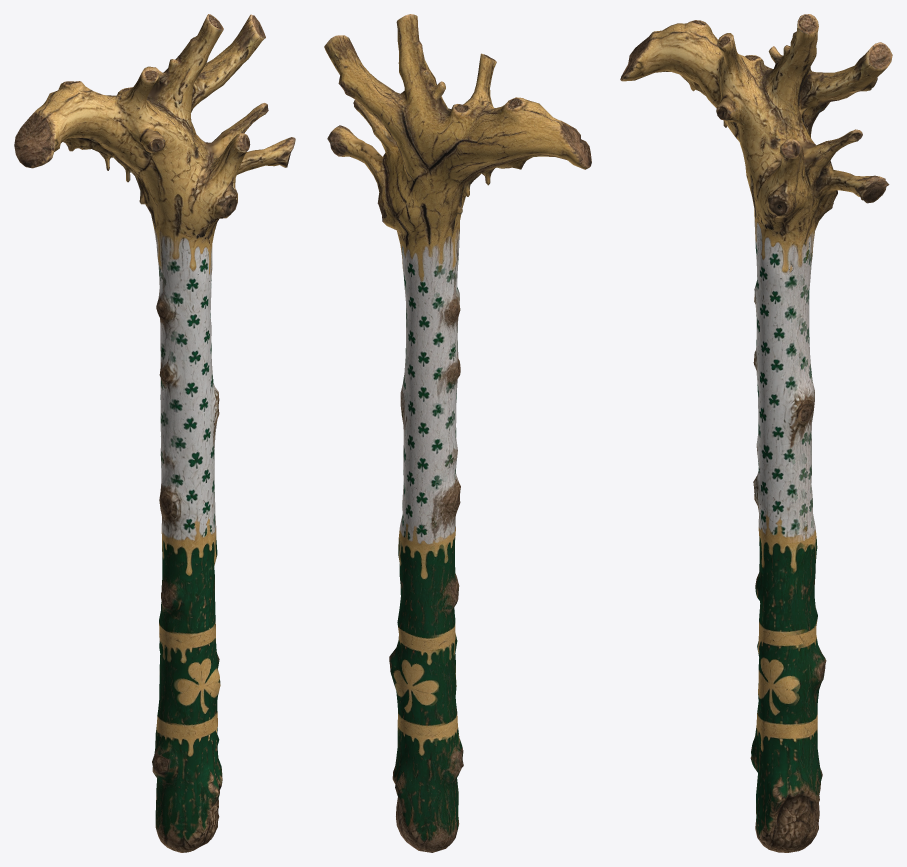
File: painted_shillelagh.fbx
3 views of the same model, side by side, from view 1: azimuth 30°, elevation 25°; view 2: azimuth 150°, elevation 25°; view 3: azimuth 330°, elevation 25° (orthographic).
Visible parts, largest first — view 1: Mesh_0; view 2: Mesh_0; view 3: Mesh_0.
Boxes of the visible parts, x1=… form: Mesh_0: x1=14, y1=14, x2=295, y2=852; Mesh_0: x1=324, y1=14, x2=591, y2=852; Mesh_0: x1=620, y1=14, x2=892, y2=852.
Bounding box in the file's own units: 32.13 × 95.07 × 11.33.
1 material, 1 textured.
